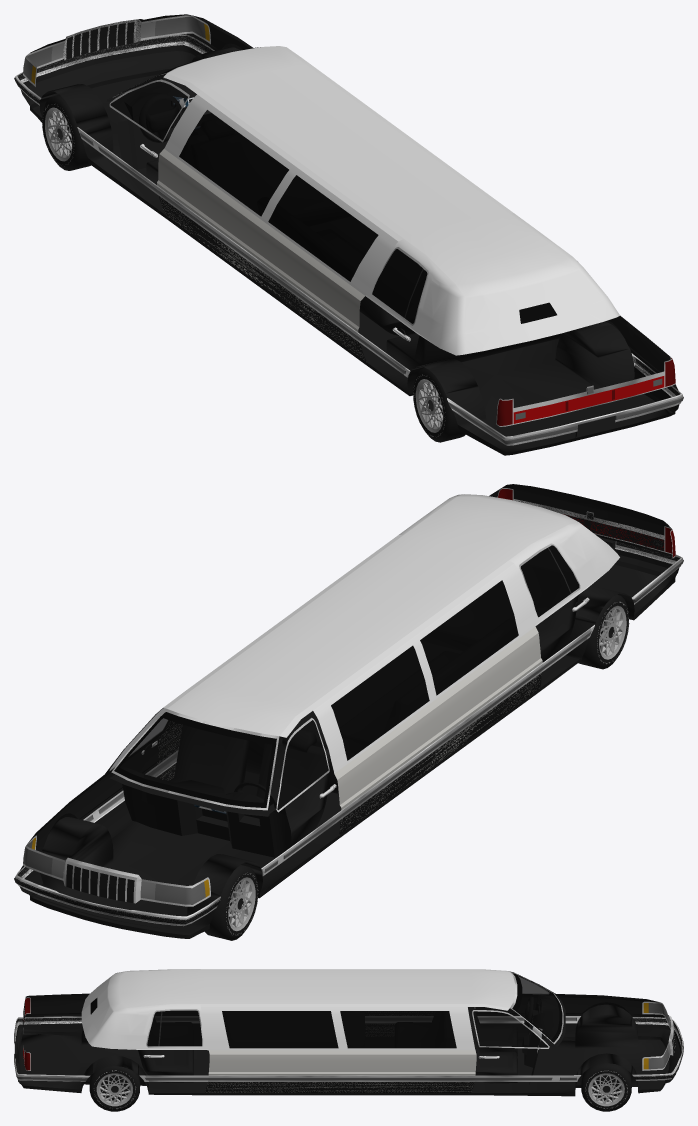
3 views of the same model, one above another, from view 1: azimuth 30°, elevation 25°; view 2: azimuth 150°, elevation 25°; view 3: azimuth 270°, elevation 25° (orthographic). The views are drawn at different scales.
Parts seen in each view (by area): view 1: mesh16_mesh16-geometry, mesh322_mesh322-geometry, mesh337_mesh337-geometry, mesh1_mesh1-geometry, mesh37_mesh37-geometry, mesh36_mesh36-geometry, mesh2_mesh2-geometry, mesh331_mesh331-geometry, mesh201_mesh201-geometry, mesh336_mesh336-geometry, mesh329_mesh329-geometry, mesh173_mesh173-geometry (+22 smaller); view 2: mesh16_mesh16-geometry, mesh322_mesh322-geometry, mesh161_mesh161-geometry, mesh337_mesh337-geometry, mesh201_mesh201-geometry, mesh329_mesh329-geometry, mesh37_mesh37-geometry, mesh36_mesh36-geometry, mesh2_mesh2-geometry, mesh321_mesh321-geometry, mesh159_mesh159-geometry, mesh336_mesh336-geometry (+23 smaller); view 3: mesh16_mesh16-geometry, mesh322_mesh322-geometry, mesh334_mesh334-geometry, mesh2_mesh2-geometry, mesh6_mesh6-geometry, mesh7_mesh7-geometry, mesh335_mesh335-geometry, mesh329_mesh329-geometry, mesh161_mesh161-geometry, mesh330_mesh330-geometry, mesh9_mesh9-geometry, mesh201_mesh201-geometry (+33 smaller).
Boxes of the visible parts, x1,y1,x2,y2 form: mesh16_mesh16-geometry: [164, 46, 619, 355]; mesh322_mesh322-geometry: [32, 47, 672, 452]; mesh337_mesh337-geometry: [157, 149, 364, 332]; mesh1_mesh1-geometry: [191, 134, 350, 225]; mesh37_mesh37-geometry: [268, 175, 378, 281]; mesh36_mesh36-geometry: [179, 110, 288, 216]; mesh2_mesh2-geometry: [257, 197, 420, 335]; mesh331_mesh331-geometry: [21, 45, 201, 105]; mesh201_mesh201-geometry: [106, 79, 200, 170]; mesh336_mesh336-geometry: [159, 196, 366, 361]; mesh329_mesh329-geometry: [386, 303, 562, 370]; mesh173_mesh173-geometry: [110, 81, 187, 139]; mesh16_mesh16-geometry: [164, 494, 619, 773]; mesh322_mesh322-geometry: [33, 549, 671, 934]; mesh161_mesh161-geometry: [114, 712, 276, 807]; mesh337_mesh337-geometry: [334, 626, 542, 809]; mesh201_mesh201-geometry: [110, 767, 291, 857]; mesh329_mesh329-geometry: [420, 558, 578, 662]; mesh37_mesh37-geometry: [420, 580, 518, 695]; mesh36_mesh36-geometry: [331, 645, 429, 760]; mesh2_mesh2-geometry: [340, 619, 516, 753]; mesh321_mesh321-geometry: [256, 728, 331, 846]; mesh159_mesh159-geometry: [170, 725, 249, 794]; mesh336_mesh336-geometry: [339, 673, 541, 834]; mesh16_mesh16-geometry: [81, 969, 515, 1050]; mesh322_mesh322-geometry: [20, 1004, 669, 1092]; mesh334_mesh334-geometry: [208, 1050, 476, 1075]; mesh2_mesh2-geometry: [222, 1011, 364, 1047]; mesh6_mesh6-geometry: [340, 1011, 456, 1048]; mesh7_mesh7-geometry: [222, 1011, 338, 1048]; mesh335_mesh335-geometry: [204, 1082, 474, 1092]; mesh329_mesh329-geometry: [138, 1017, 193, 1082]; mesh161_mesh161-geometry: [512, 973, 562, 1042]; mesh330_mesh330-geometry: [208, 1075, 475, 1081]; mesh9_mesh9-geometry: [473, 1011, 547, 1047]; mesh201_mesh201-geometry: [522, 994, 565, 1084].
Size of the model in its own units: 0.2066 by 0.1542 by 0.9662.
